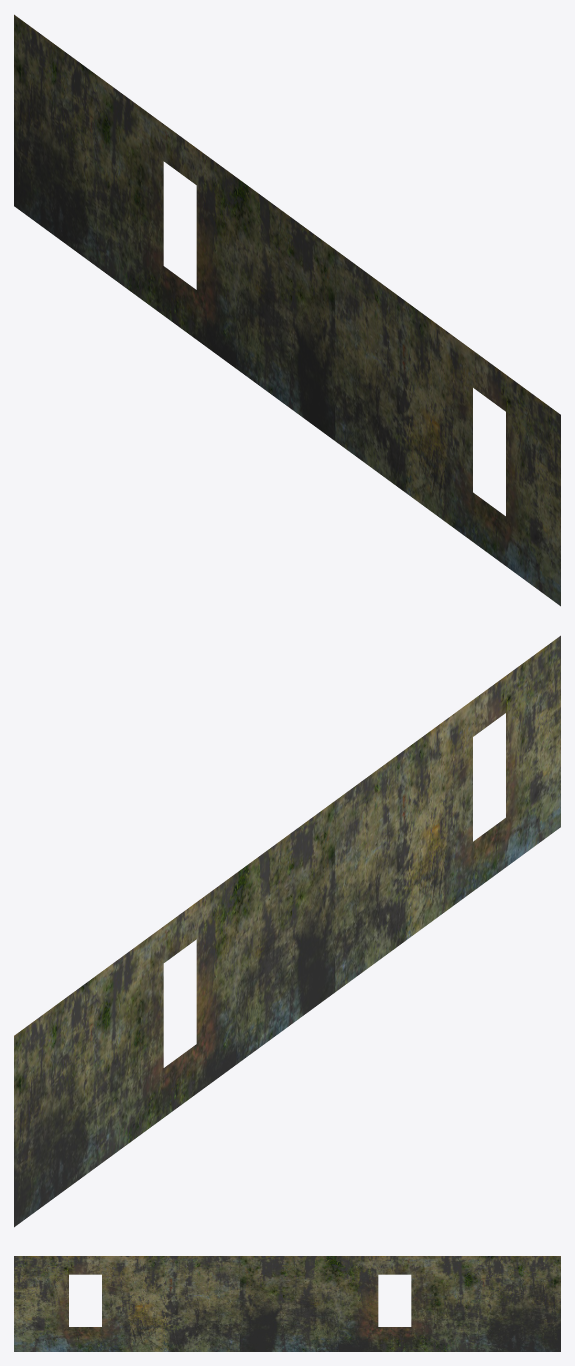
The model's file is Wall_05.FBX.
The picture shows the model from 3 angles, top to bottom: view 1: azimuth 30°, elevation 25°; view 2: azimuth 150°, elevation 25°; view 3: azimuth 270°, elevation 25°; orthographic projection. The views are drawn at different scales.
Parts seen in each view (by area): view 1: Wall_05; view 2: Wall_05; view 3: Wall_05.
Part boxes in pixels (left/top/right/bottom): Wall_05: left=14, top=14, right=560, bottom=606; Wall_05: left=14, top=635, right=560, bottom=1227; Wall_05: left=14, top=1256, right=560, bottom=1351.
Bounding box in the file's own units: 0.0112 × 320 × 1655.
